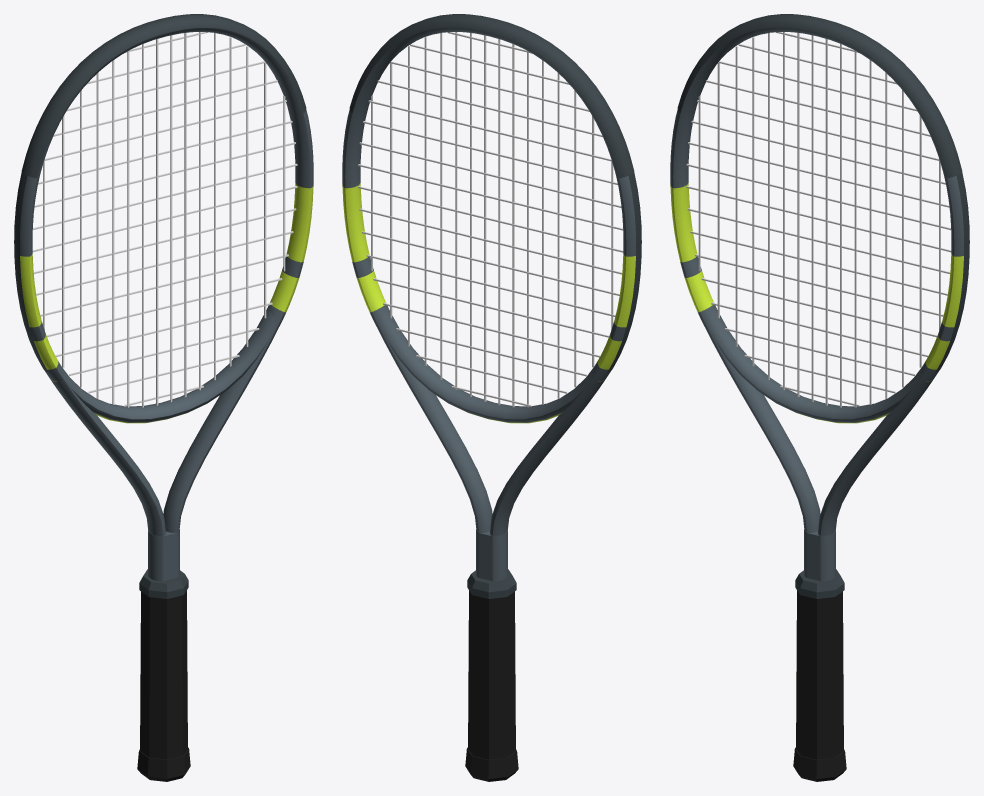
File: babolat-carlitos-junior-26.glb
3 views of the same model, side by side, from view 1: azimuth 30°, elevation 25°; view 2: azimuth 150°, elevation 25°; view 3: azimuth 330°, elevation 25° (orthographic).
Parts seen in each view (by area): view 1: frame, strings_mains, strings_crosses, grip, bumper, butt_cap, grommets, collar; view 2: frame, strings_mains, strings_crosses, grip, bumper, butt_cap, grommets, collar; view 3: frame, strings_mains, strings_crosses, grip, bumper, butt_cap, grommets, collar.
Part boxes in pixels (box(x1,y1,x2,y2)): frame: box(20, 27, 313, 581); strings_mains: box(43, 32, 285, 407); strings_crosses: box(32, 32, 297, 406); grip: box(140, 590, 187, 759); bumper: box(21, 14, 306, 178); butt_cap: box(137, 747, 190, 781); grommets: box(14, 172, 48, 372); collar: box(139, 569, 188, 598); frame: box(342, 27, 635, 581); strings_mains: box(371, 32, 613, 407); strings_crosses: box(358, 32, 623, 406); grip: box(468, 590, 515, 759); bumper: box(349, 14, 634, 178); butt_cap: box(465, 747, 518, 781); grommets: box(607, 172, 641, 372); collar: box(467, 569, 516, 598); frame: box(670, 27, 963, 581); strings_mains: box(698, 32, 940, 407); strings_crosses: box(686, 32, 951, 406); grip: box(796, 590, 843, 759); bumper: box(677, 14, 962, 178); butt_cap: box(793, 747, 846, 781); grommets: box(935, 172, 969, 372); collar: box(795, 569, 844, 598).
Bounding box in the file's own units: 0.2718 × 0.6607 × 0.0396.
